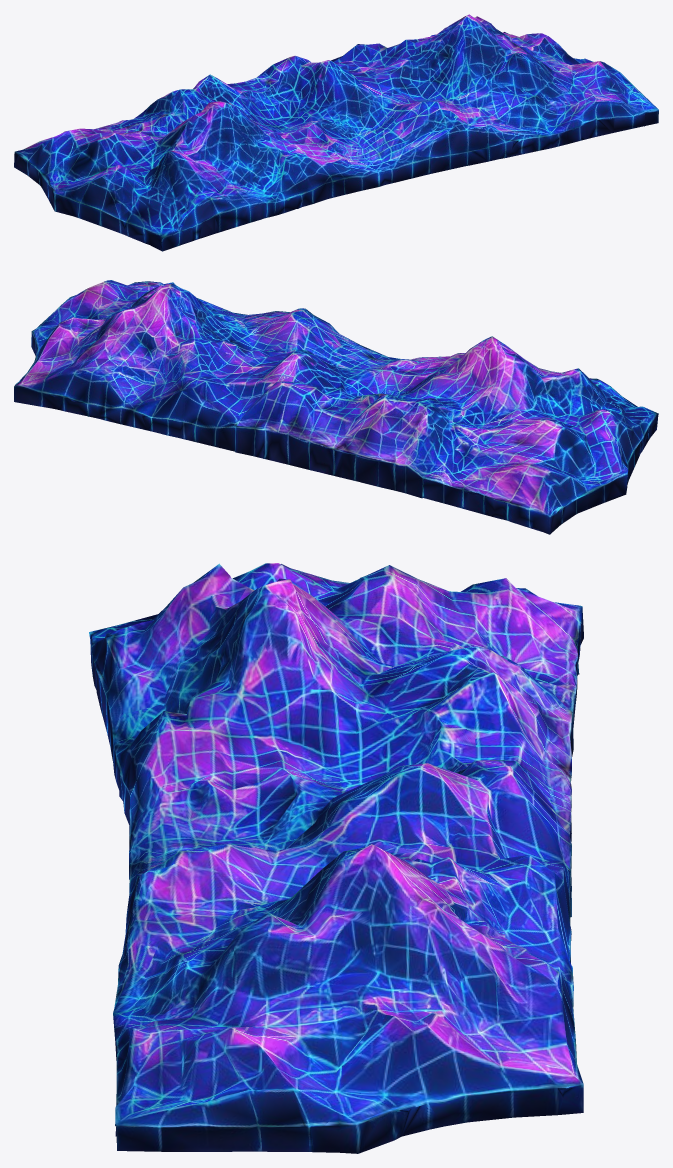
File: neon-mountain-ridge-tile-v002.glb
The picture shows the model from 3 angles, top to bottom: view 1: azimuth 30°, elevation 25°; view 2: azimuth 150°, elevation 25°; view 3: azimuth 270°, elevation 25°; orthographic projection. The views are drawn at different scales.
Parts seen in each view (by area): view 1: tripo_node_f04cb174-7782-44b2-b7fd-3da2b9cd137e; view 2: tripo_node_f04cb174-7782-44b2-b7fd-3da2b9cd137e; view 3: tripo_node_f04cb174-7782-44b2-b7fd-3da2b9cd137e.
Boxes of the visible parts, left/top/right/bottom form: tripo_node_f04cb174-7782-44b2-b7fd-3da2b9cd137e: left=14, top=14, right=658, bottom=251; tripo_node_f04cb174-7782-44b2-b7fd-3da2b9cd137e: left=14, top=280, right=658, bottom=534; tripo_node_f04cb174-7782-44b2-b7fd-3da2b9cd137e: left=89, top=563, right=583, bottom=1153.
Bounding box in the file's own units: 0.9792 × 0.1582 × 0.3843.
Materials: 1 (1 with a texture image).
